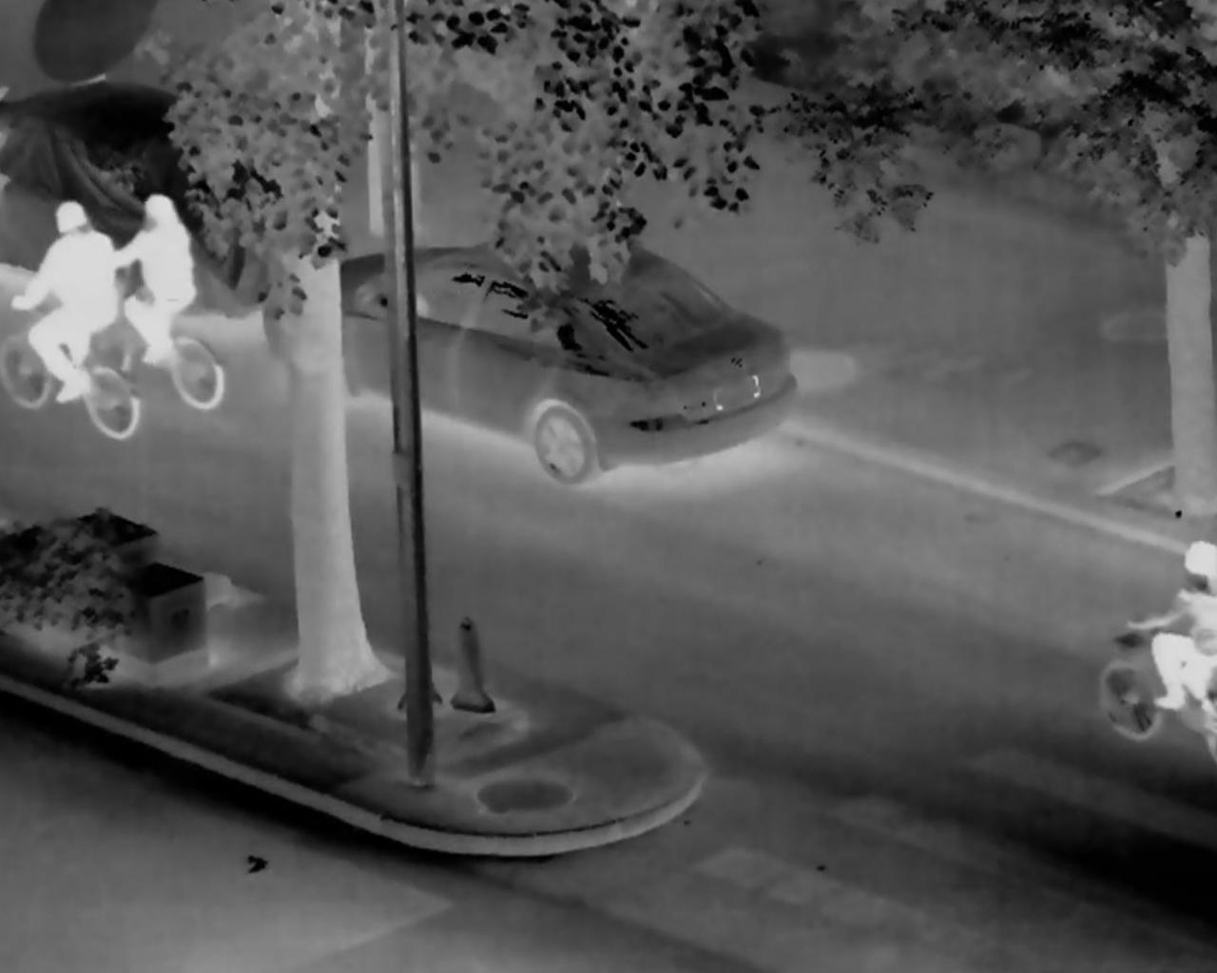person: (8, 197, 117, 401), (1125, 541, 1216, 728), (103, 193, 196, 369)
